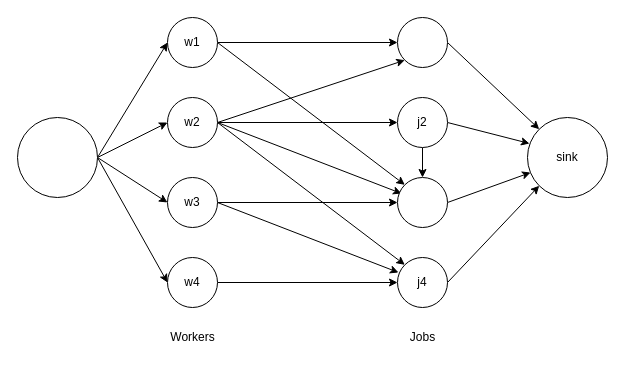
The diagram is 625 pixels wide and 365 high, and some of its shapes have lost their labels. The shapes that lost their labels are listed below. From the top down, each one's box as (x1, y1, x2, y2) in pixels, then its label:
(396, 16, 448, 68): j1
(16, 116, 98, 198): source
(396, 176, 448, 228): j3
